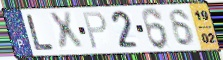2: (112, 9, 143, 50)
6: (141, 6, 171, 51), (168, 8, 197, 47)
L: (25, 13, 56, 51)
P: (82, 11, 109, 51)
X: (47, 11, 86, 53)
